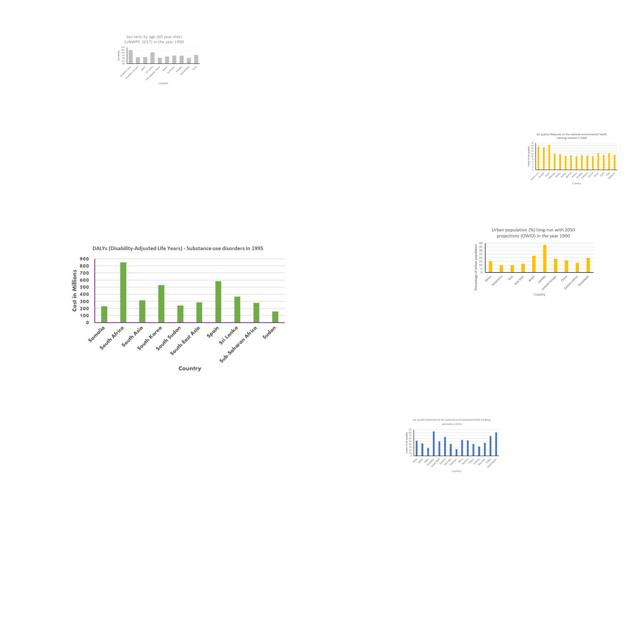Graph: (67, 242, 288, 376), (471, 225, 596, 298), (403, 416, 501, 474), (525, 131, 619, 187), (115, 34, 202, 85)
